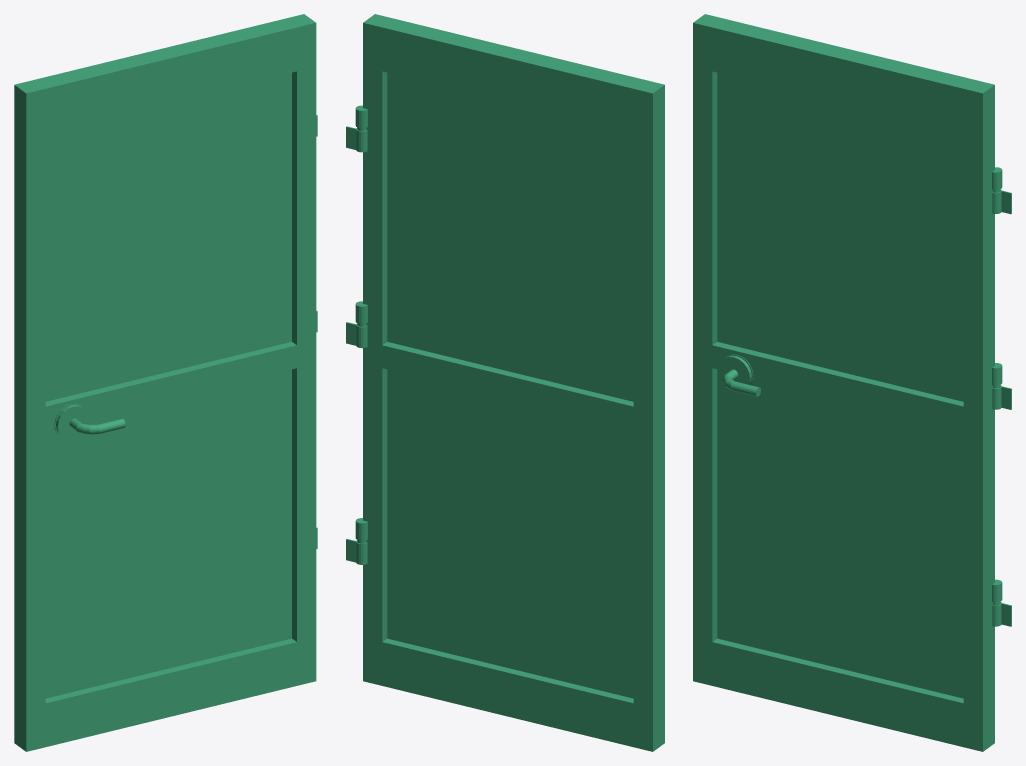
Rendered from door.fbx.
3 views of the same model, side by side, from view 1: azimuth 30°, elevation 25°; view 2: azimuth 150°, elevation 25°; view 3: azimuth 330°, elevation 25° (orthographic).
Visible parts, largest first — view 1: pCube167; view 2: pCube167; view 3: pCube167.
Part boxes in pixels (left/top/right/bottom): pCube167: left=14, top=14, right=317, bottom=751; pCube167: left=346, top=14, right=664, bottom=751; pCube167: left=693, top=14, right=1011, bottom=751.
Bounding box in the file's own units: 57.72 × 119 × 11.06.
